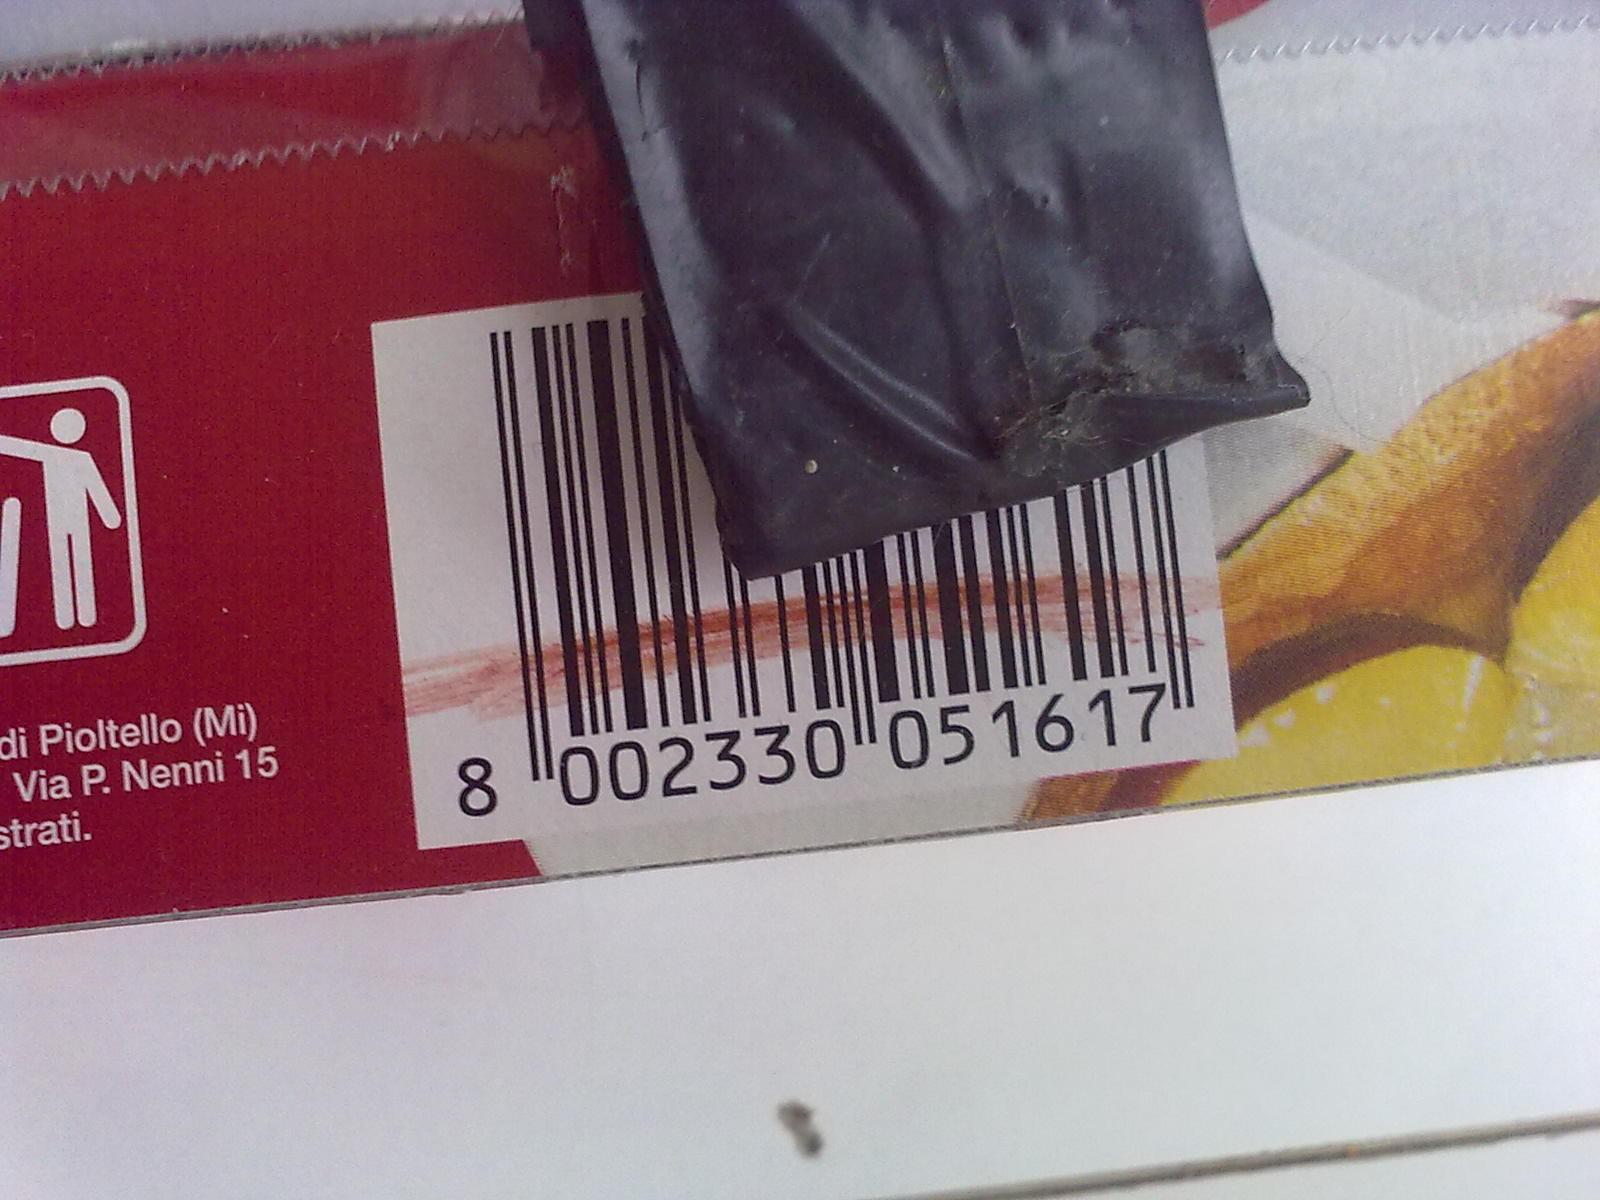barcode: (373, 287, 1245, 850)
